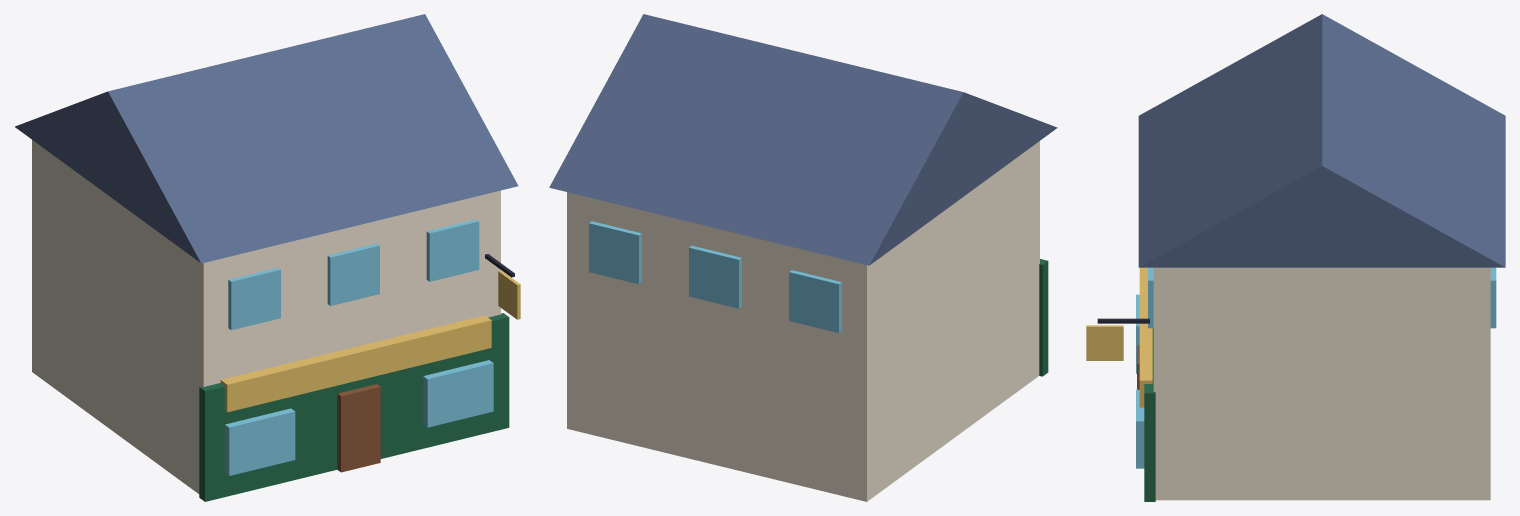
File: pub.glb
3 views of the same model, side by side, from view 1: azimuth 30°, elevation 25°; view 2: azimuth 150°, elevation 25°; view 3: azimuth 270°, elevation 25° (orthographic). The views are drawn at different scales.
Parts seen in each view (by area): view 1: pub_roof_slate, pub_wall_cream, pub_pub_green, pub_window, pub_gold, pub_door; view 2: pub_wall_cream, pub_roof_slate, pub_window, pub_pub_green; view 3: pub_wall_cream, pub_roof_slate, pub_gold, pub_window, pub_pub_green.
Part boxes in pixels (x1,y1,x2,y2): pub_roof_slate: (15,14,518,263); pub_wall_cream: (32,140,500,493); pub_pub_green: (199,313,509,501); pub_window: (225,219,493,475); pub_gold: (220,270,520,412); pub_door: (337,384,380,472); pub_wall_cream: (567,141,1039,501); pub_roof_slate: (549,14,1057,265); pub_window: (589,221,841,332); pub_pub_green: (1039,259,1048,376); pub_wall_cream: (1153,267,1490,500); pub_roof_slate: (1138,14,1505,267); pub_gold: (1086,267,1152,407); pub_window: (1136,267,1496,468); pub_pub_green: (1144,328,1155,501).
Size of the model in its own units: 9.6 by 10 by 11.2.
